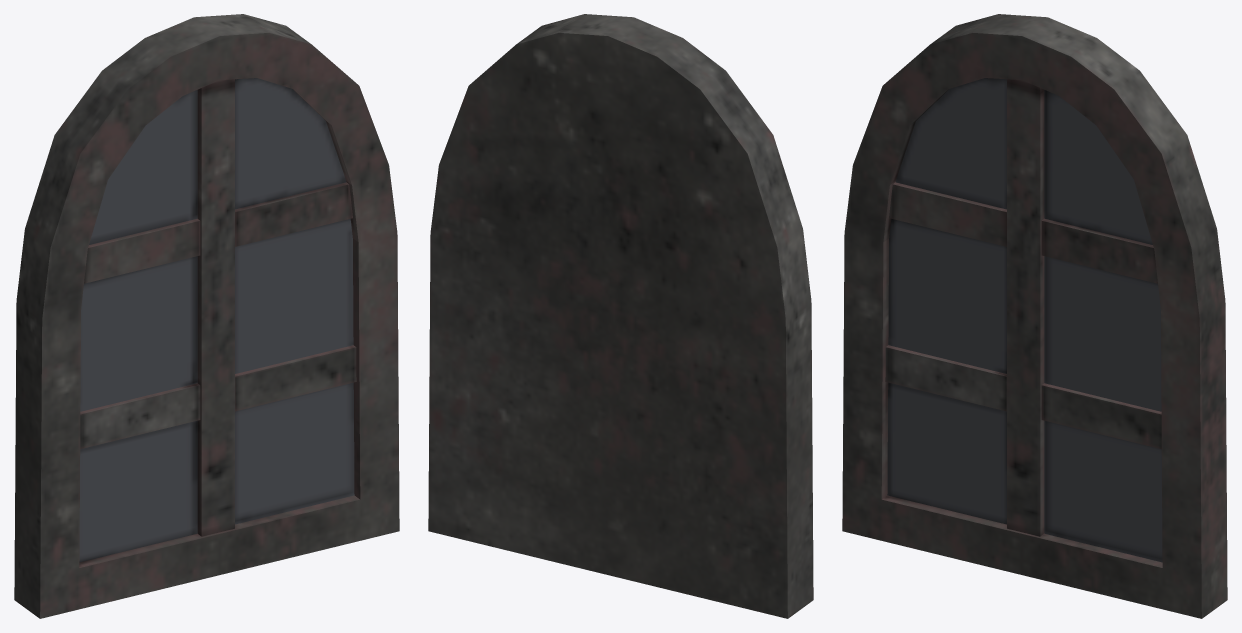
File: sb_obj_outdoor002_DemonsCastle01_window00.fbx
The picture shows the model from 3 angles, left to right: view 1: azimuth 30°, elevation 25°; view 2: azimuth 150°, elevation 25°; view 3: azimuth 330°, elevation 25°; orthographic projection.
Visible parts, largest first — view 1: sb_obj_outdoor002_DemonsCastle01_window00; view 2: sb_obj_outdoor002_DemonsCastle01_window00; view 3: sb_obj_outdoor002_DemonsCastle01_window00.
Boxes of the visible parts, <box> form: sb_obj_outdoor002_DemonsCastle01_window00: <box>14,14,399,618</box>; sb_obj_outdoor002_DemonsCastle01_window00: <box>428,14,813,618</box>; sb_obj_outdoor002_DemonsCastle01_window00: <box>842,14,1227,618</box>.
Bounding box in the file's own units: 1.05 × 1.51 × 0.1305.
